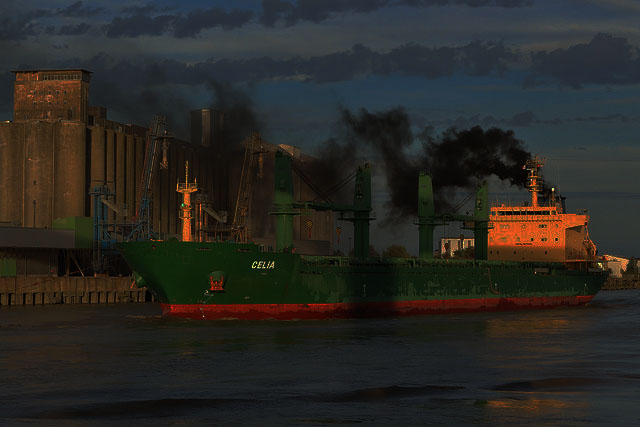bulk carrier: (113, 157, 617, 319)
